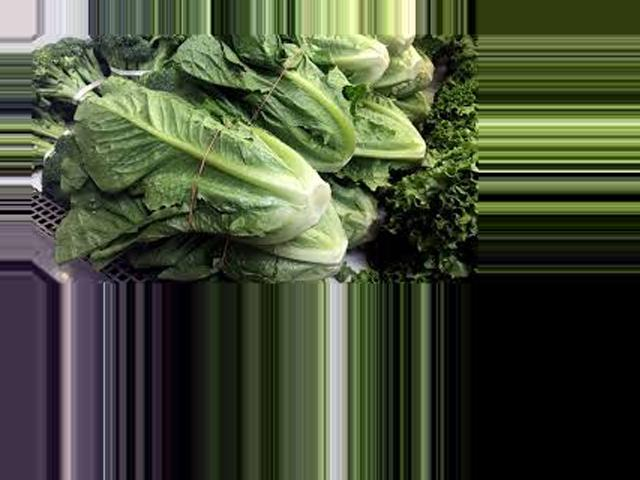lettuce: (165, 42, 363, 165)
